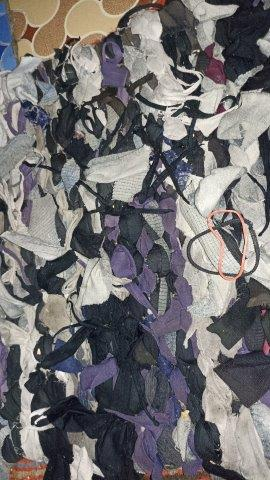karet: (187, 209, 260, 281)
